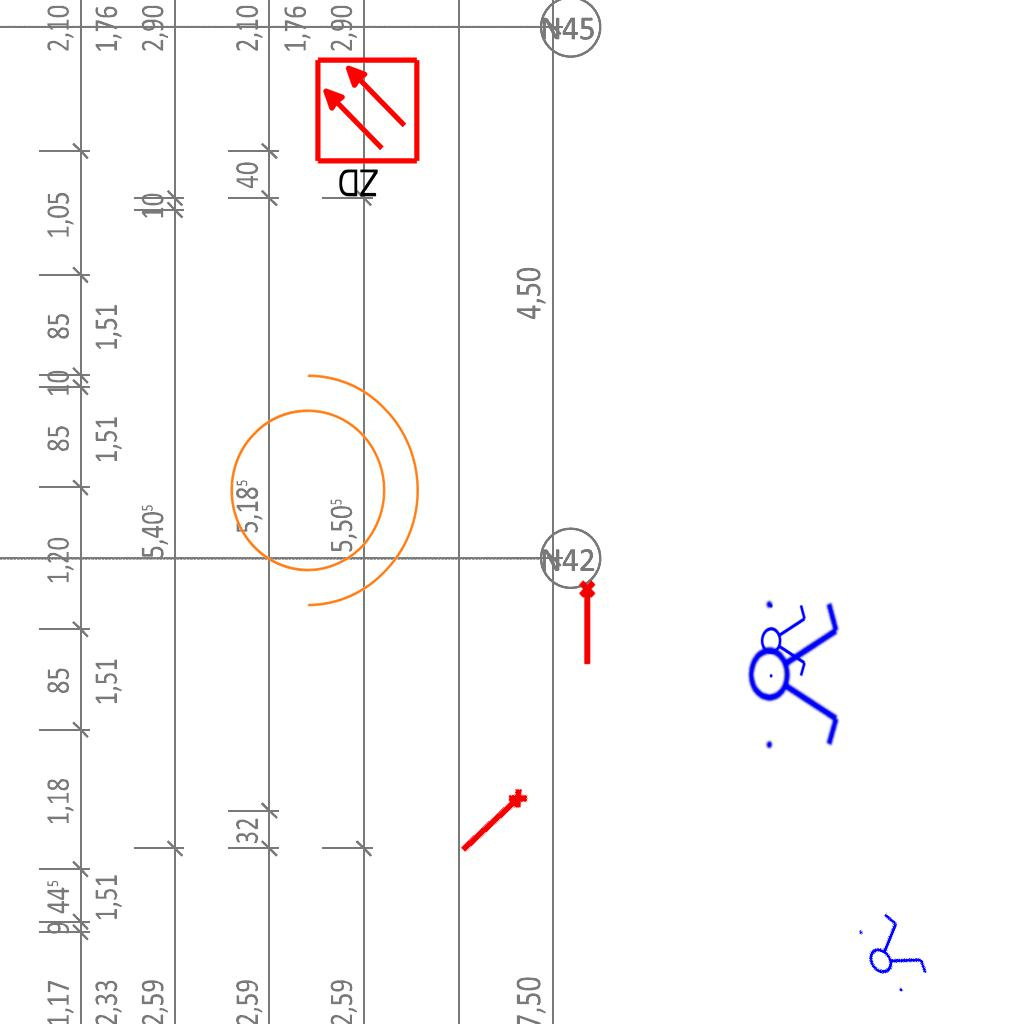ASR_Ansaugoeffnung: (453, 784, 535, 861), (577, 579, 600, 667)
Scheinwerfer_fuer_Alarmbeleuchtung: (205, 352, 430, 616)
Serienschalter: (747, 589, 843, 757), (847, 904, 935, 1002), (760, 598, 808, 682)
ZD_Melder_in_Zwischendecke_mit_Revisionsoeffnung_mind_40_x_40_cm: (312, 55, 426, 204)
